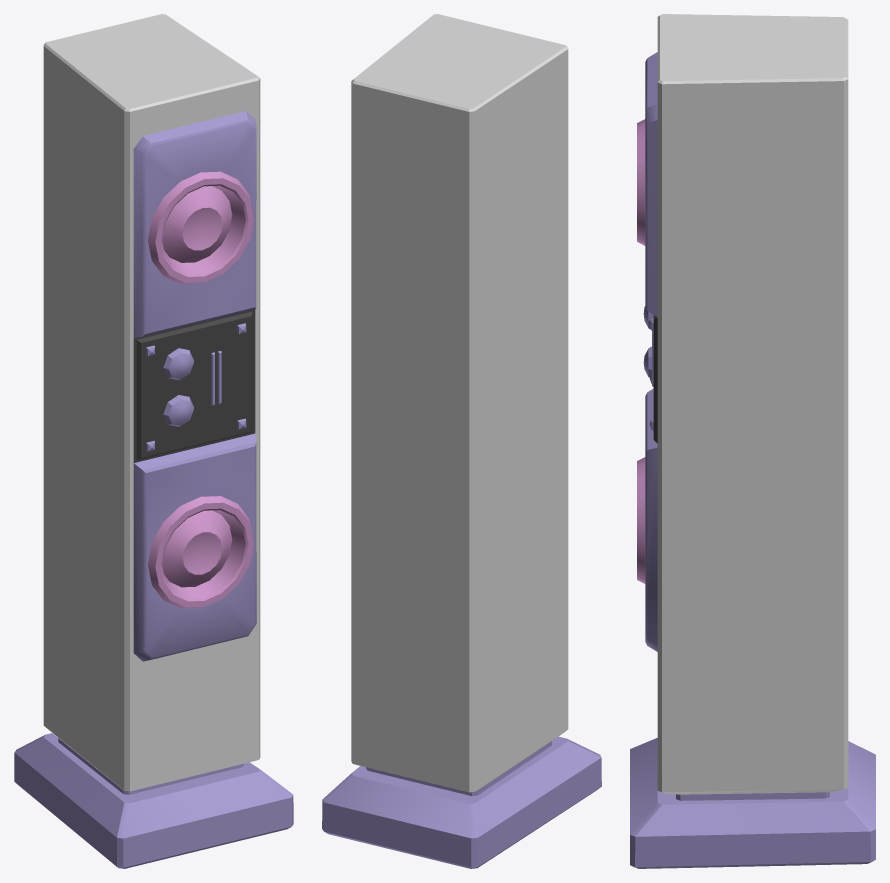
File: hwht02.FBX
3 renders of one model, left to right at view 1: azimuth 30°, elevation 25°; view 2: azimuth 150°, elevation 25°; view 3: azimuth 270°, elevation 25°, orthographic. The views are drawn at different scales.
Parts seen in each view (by area): view 1: hwht02; view 2: hwht02; view 3: hwht02.
Boxes of the visible parts, x1=… form: hwht02: x1=14, y1=14, x2=293, y2=868; hwht02: x1=322, y1=14, x2=601, y2=868; hwht02: x1=630, y1=14, x2=875, y2=868.
Bounding box in the file's own units: 32 × 37 × 129.
